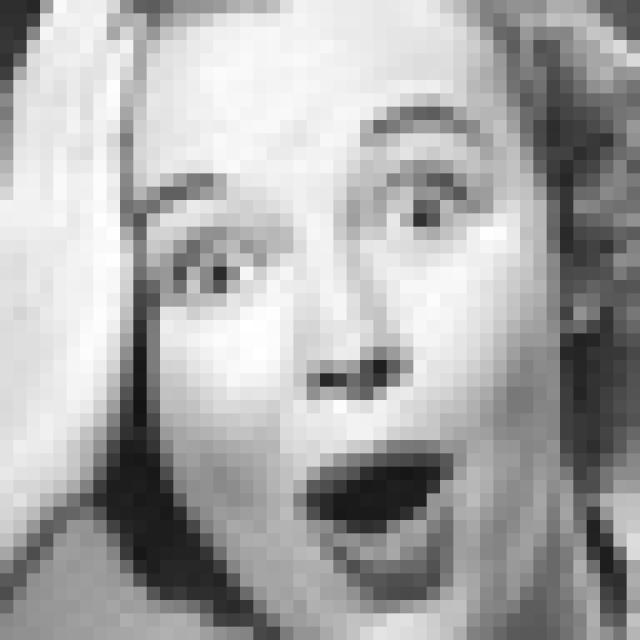surprise: (143, 105, 506, 592)
